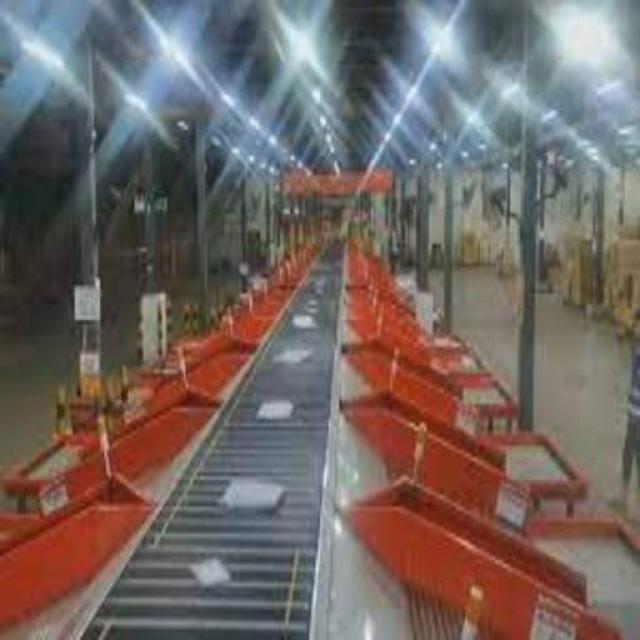conveyor: (68, 229, 341, 640)
